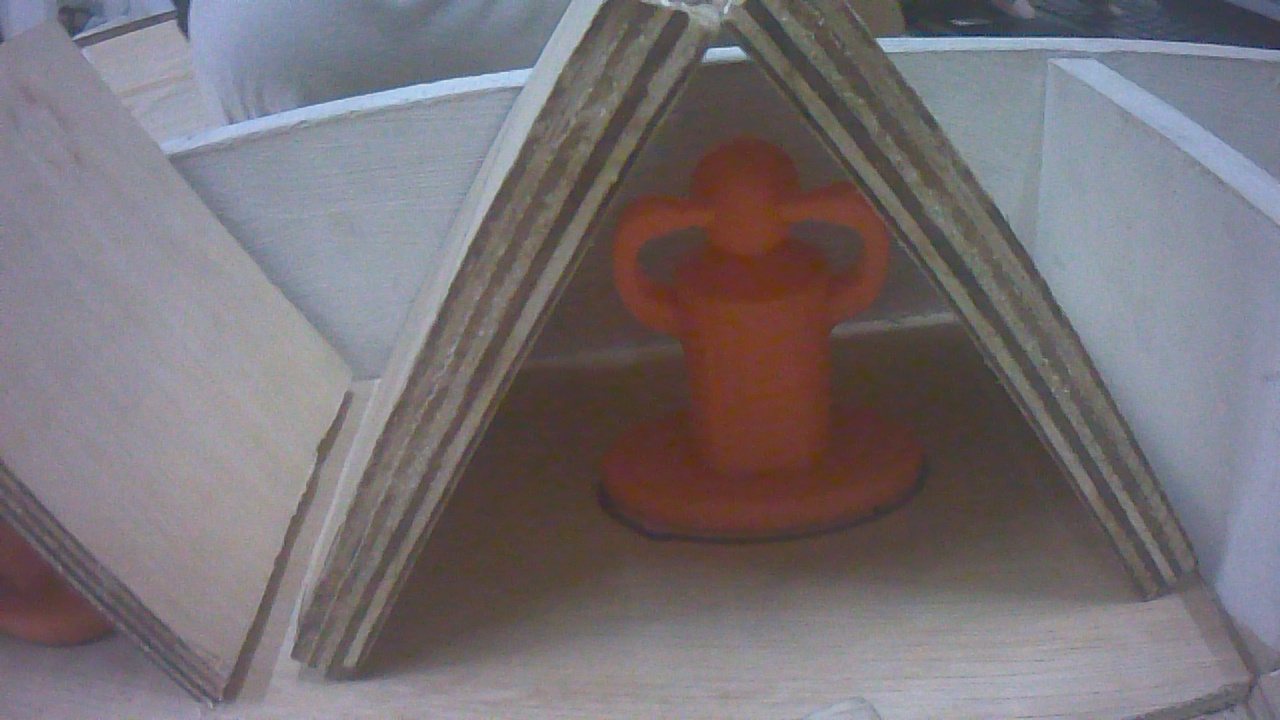real: (592, 137, 922, 557)
